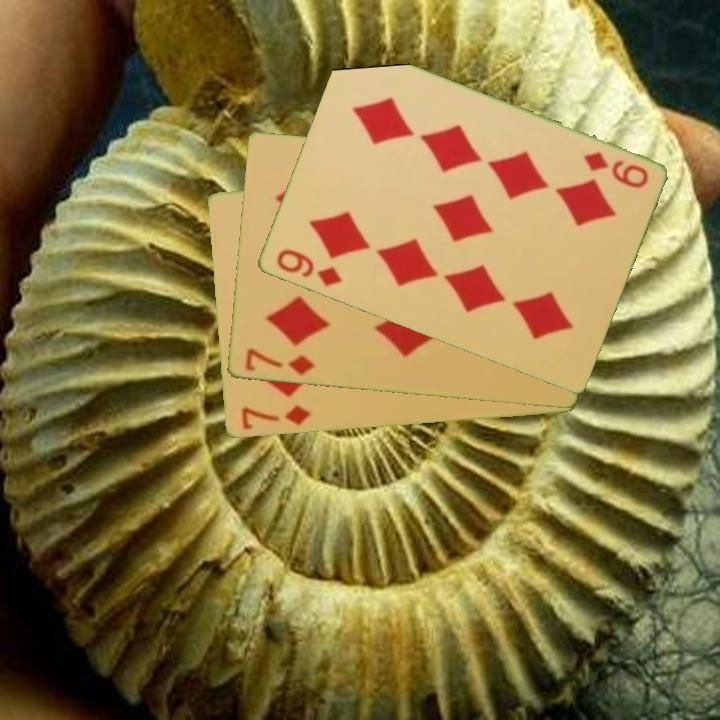7d: (241, 345, 317, 378), (237, 402, 313, 433)
9d: (272, 246, 344, 290), (579, 148, 651, 192)
